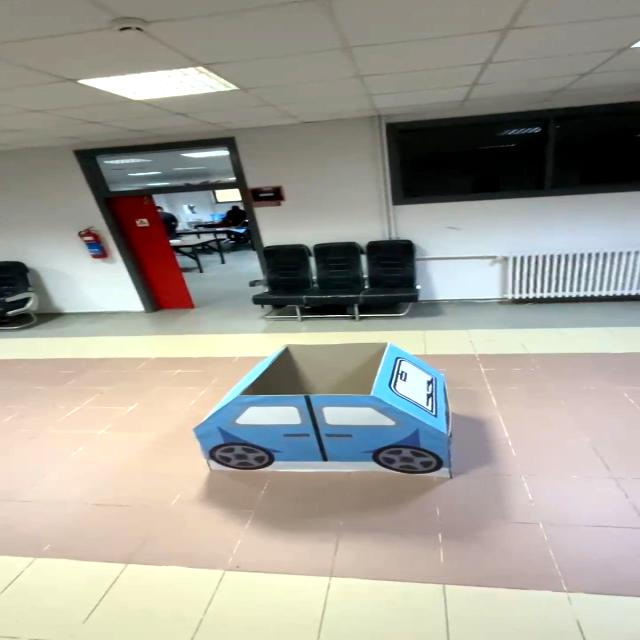blue_car: (164, 334, 489, 494)
